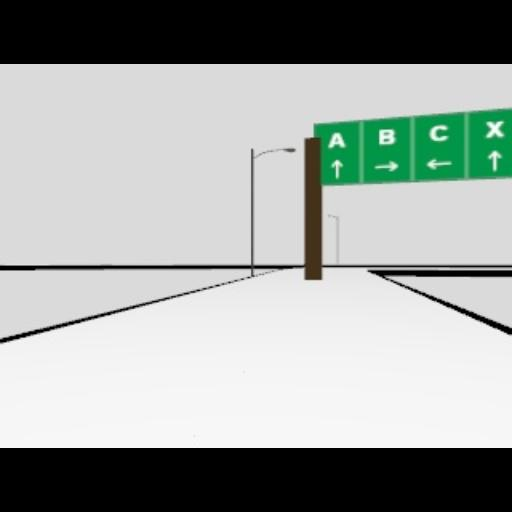A: (328, 131, 346, 147)
B: (377, 128, 395, 144)
C: (428, 123, 448, 141)
Left: (424, 158, 452, 170)
Right: (373, 160, 399, 172)
Straight: (487, 149, 501, 171), (330, 158, 342, 178)
X: (484, 120, 504, 138)
